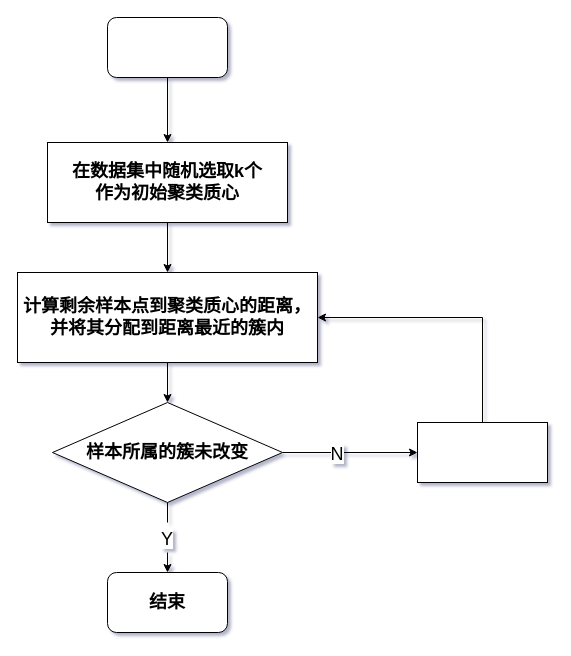
Some shapes in this 571 by 656 pixel diagram are drawn without their labels. Each missing label, with the centre of its shape:
开始: point (167, 47)
更新簇内质心: point (482, 452)
